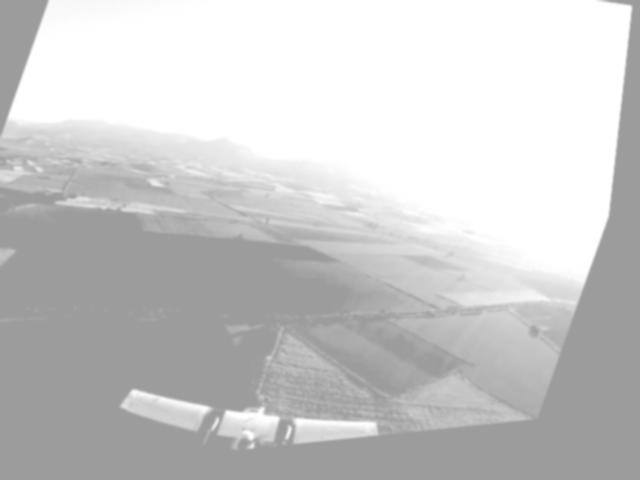hedef: (111, 340, 420, 468)
